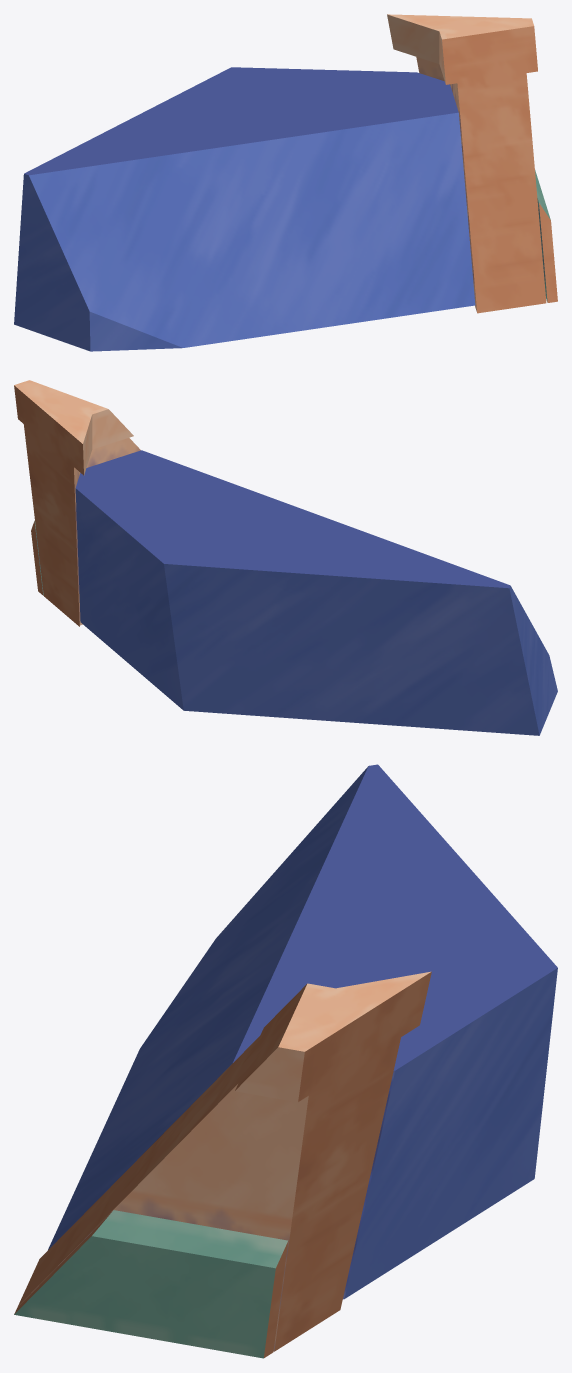
The model's file is vat_indigo_s05.fbx.
The picture shows the model from 3 angles, top to bottom: view 1: azimuth 30°, elevation 25°; view 2: azimuth 150°, elevation 25°; view 3: azimuth 270°, elevation 25°; orthographic projection. The views are drawn at different scales.
Parts seen in each view (by area): view 1: vat_indigo_s05; view 2: vat_indigo_s05; view 3: vat_indigo_s05.
Boxes of the visible parts, x1,y1,x2,y2 form: vat_indigo_s05: [14, 14, 557, 351]; vat_indigo_s05: [14, 380, 557, 735]; vat_indigo_s05: [14, 764, 557, 1358].
Bounding box in the file's own units: 4.49 × 1.7 × 2.67.
